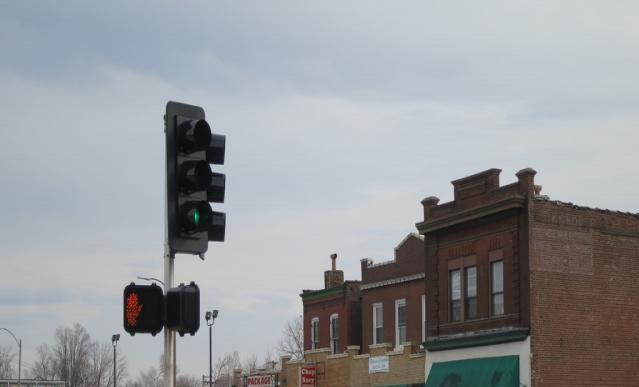green_light: (166, 101, 212, 254)
